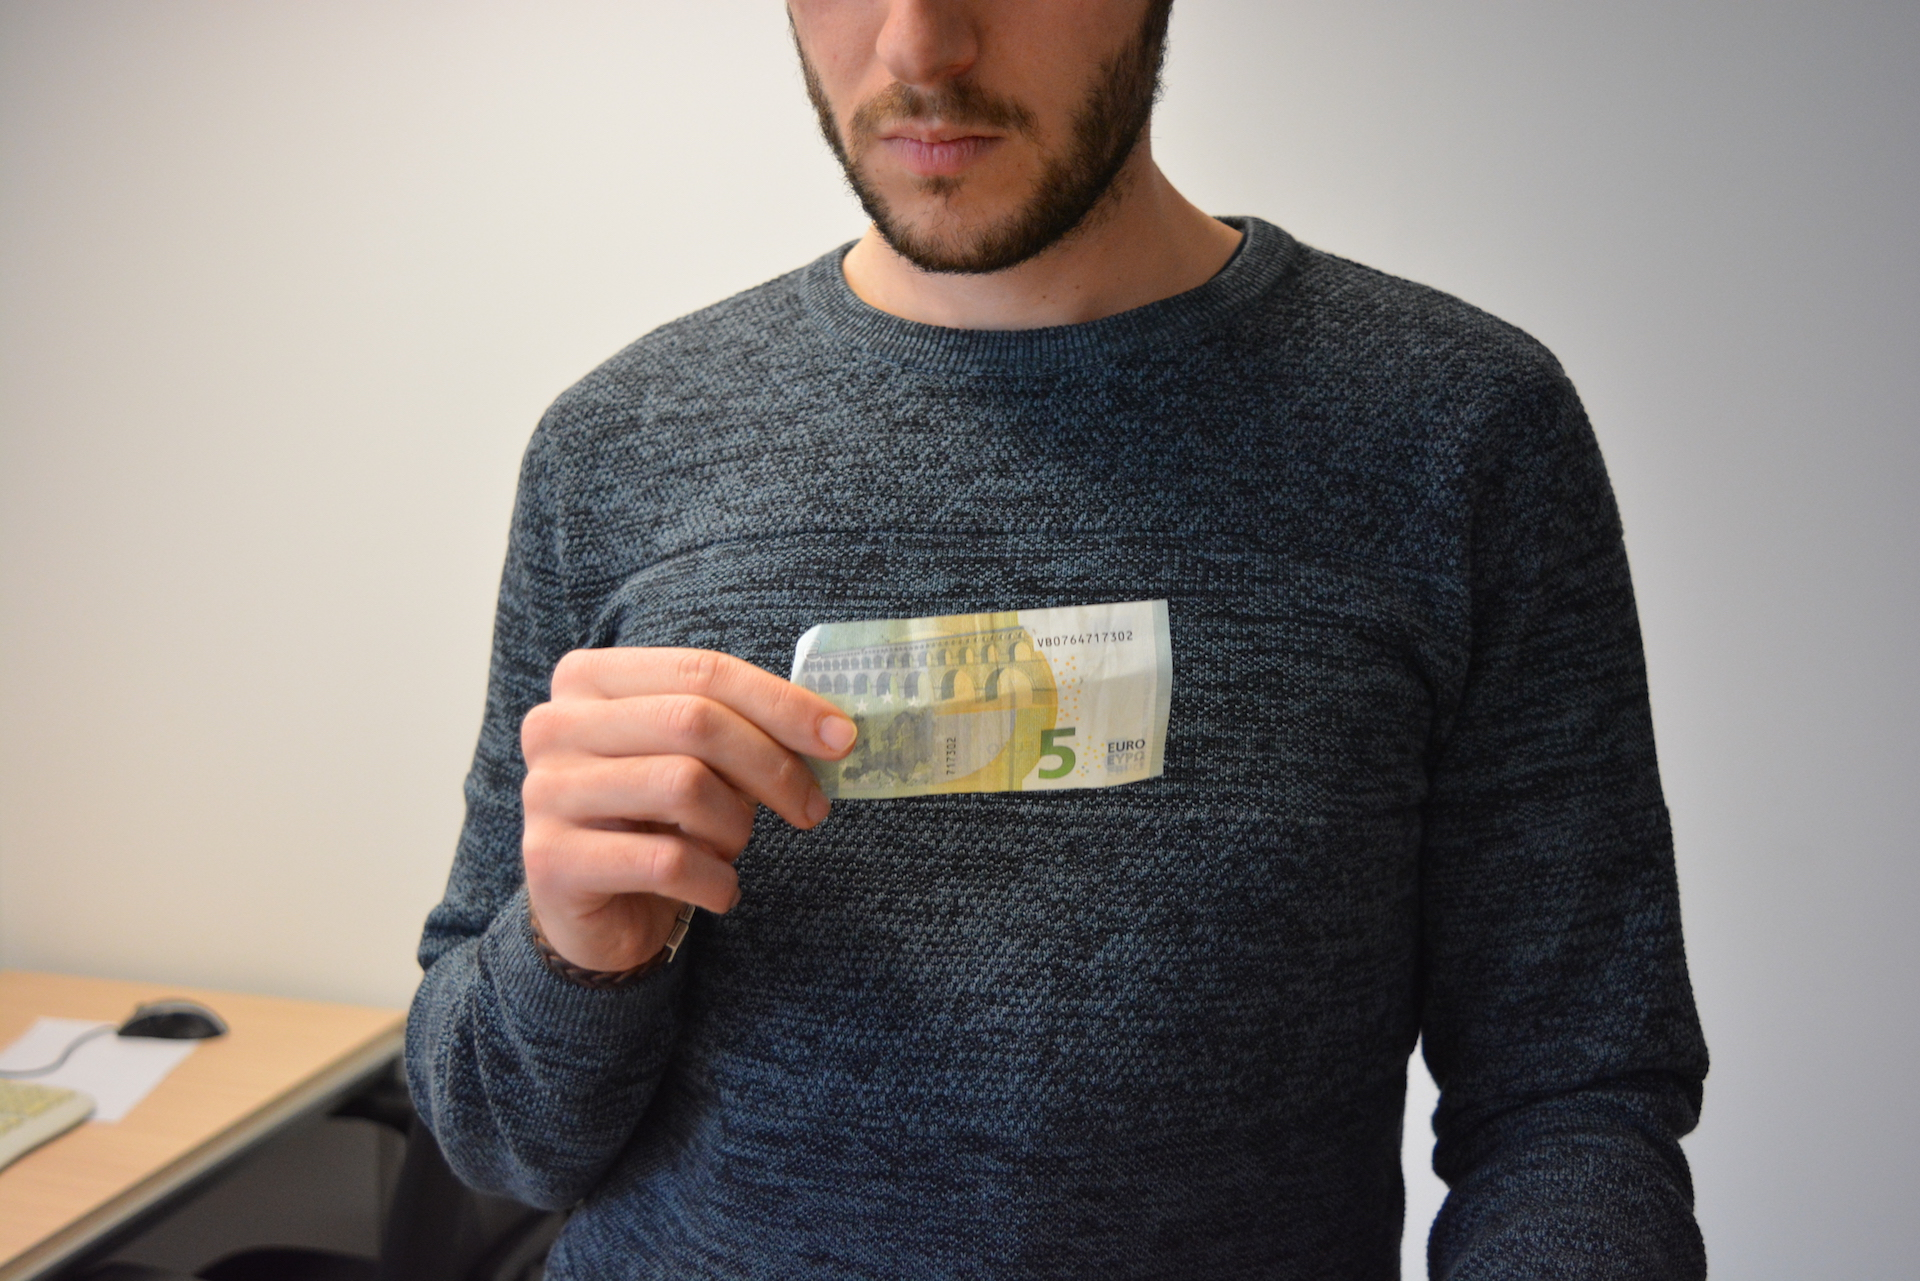billete: (786, 596, 1177, 801)
